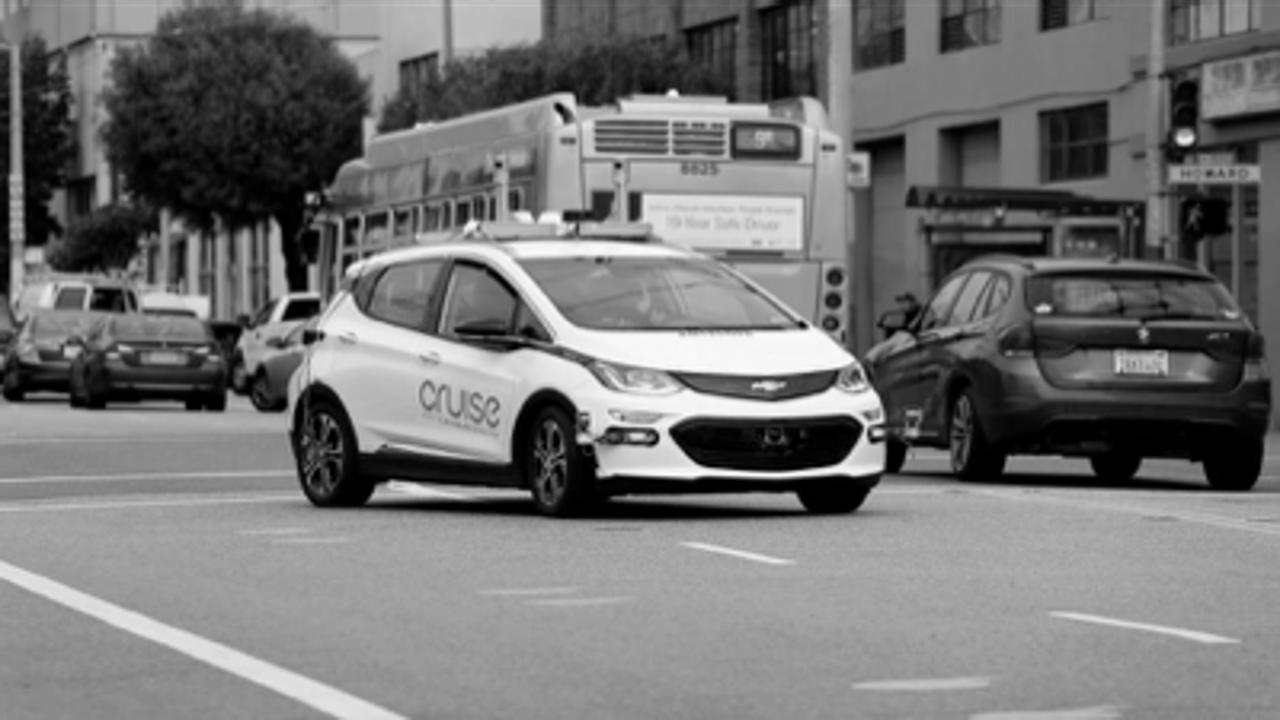license: (1108, 345, 1176, 382), (145, 349, 185, 364)
